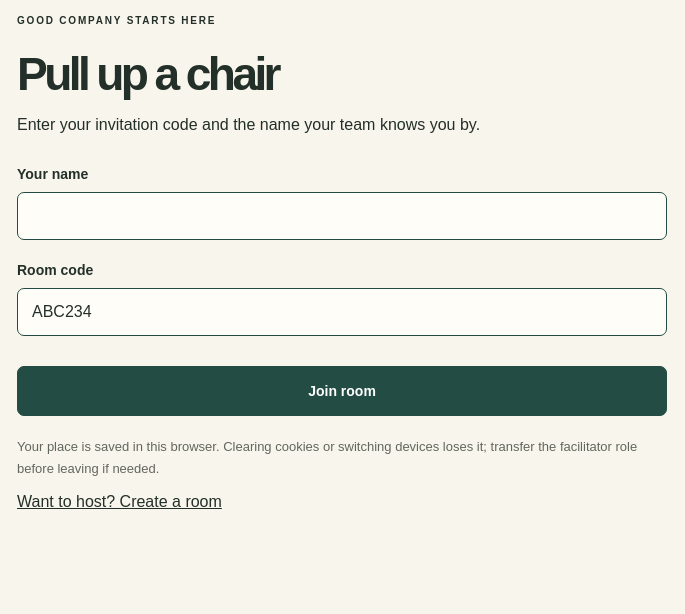
it: room entry › shows server validation errors without losing the form
Type "Alex" into the field labelled "Your name".
click(342, 216); type("Alex")  # box [17,192,667,240]
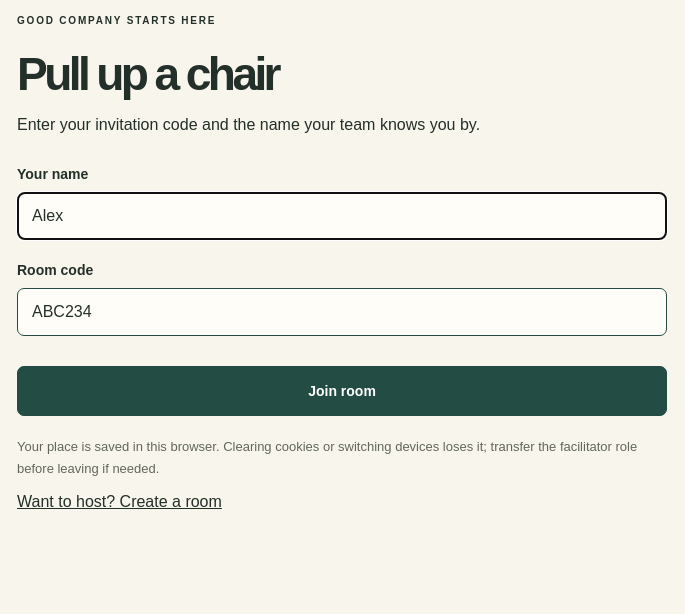
Click the button "Join room".
click(342, 391)  # box [17,366,667,416]
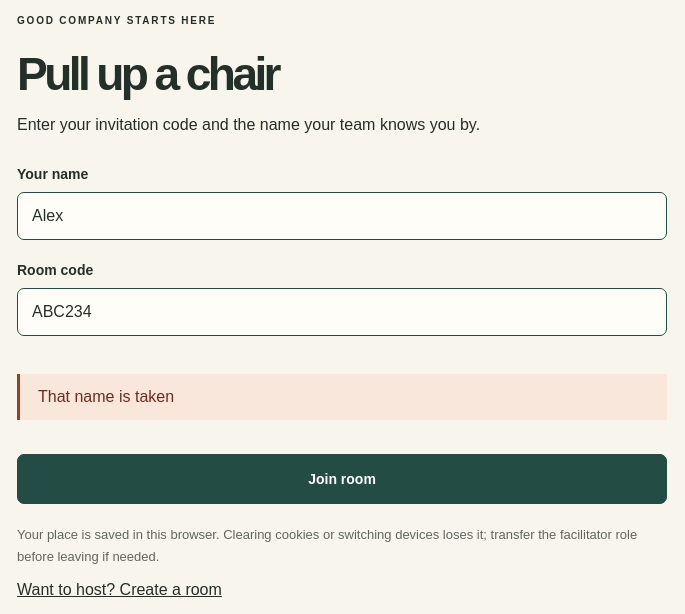
Result: the message reads "That name is taken" at [38,388,174,405]
